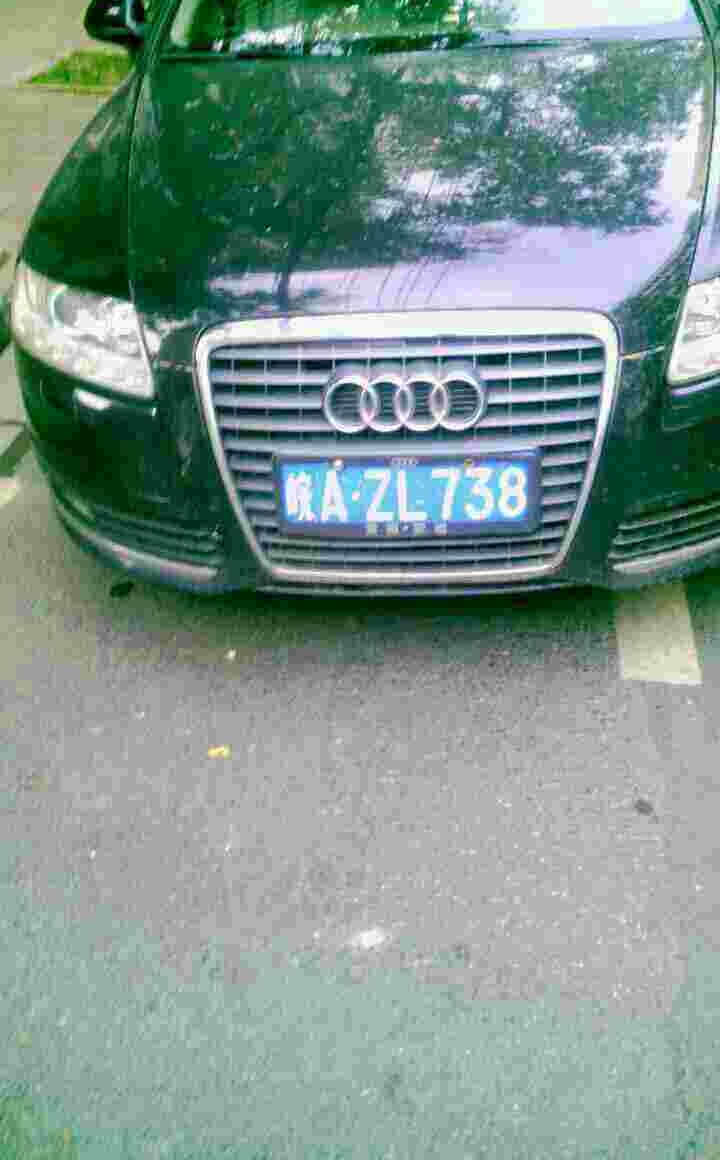license_plate: (278, 458, 538, 527)
